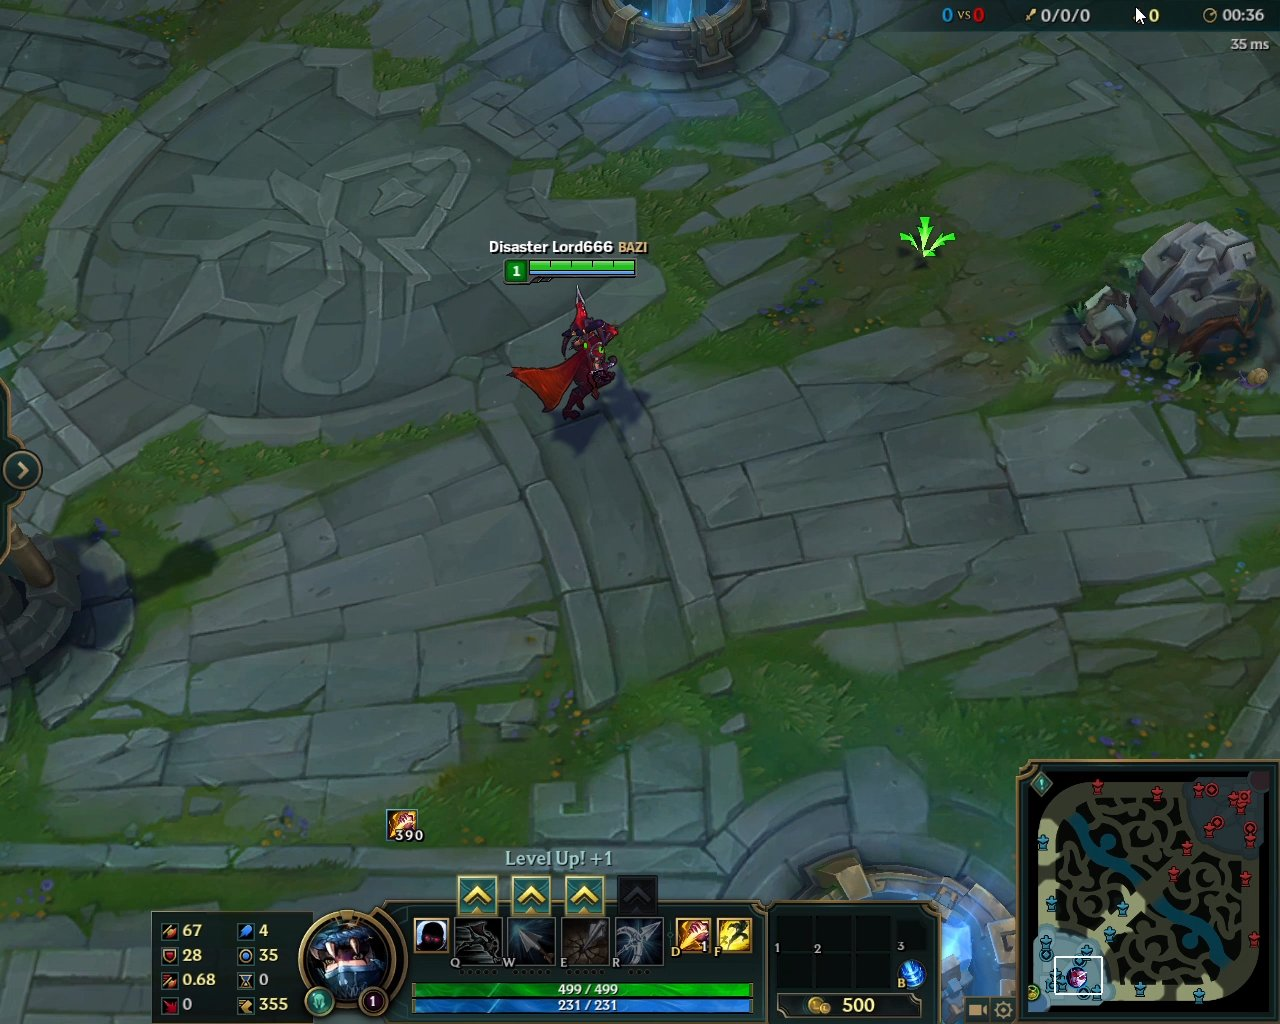Vayne: (505, 285, 635, 429)
